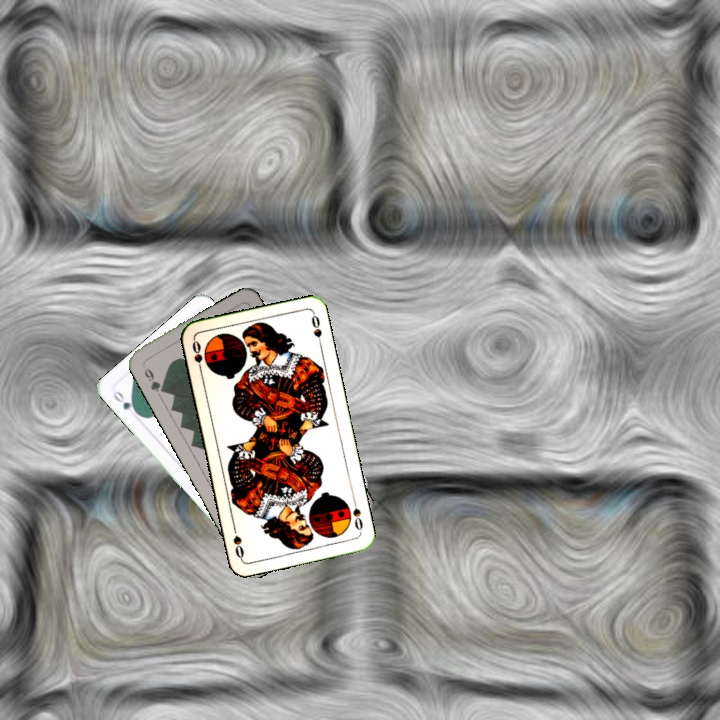G9: (139, 360, 168, 395)
GO: (109, 386, 142, 420)
SO: (188, 336, 205, 376), (349, 495, 365, 535)
